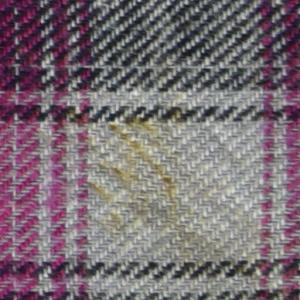Oil Stain: (55, 83, 263, 283)
